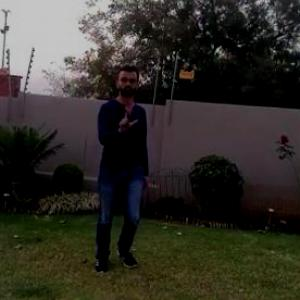land_hand: (112, 99, 141, 136)
